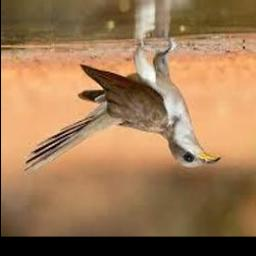Cuckoo: (24, 45, 221, 177)
